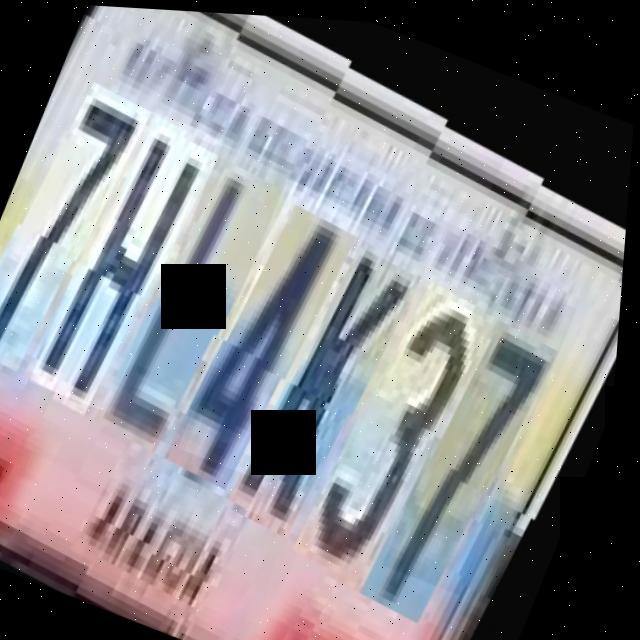3: (318, 239, 515, 562)
4: (183, 171, 372, 480)
7: (389, 267, 583, 594), (0, 68, 157, 382)
H: (33, 101, 228, 417)
K: (248, 204, 440, 520)
L: (107, 136, 300, 452)
